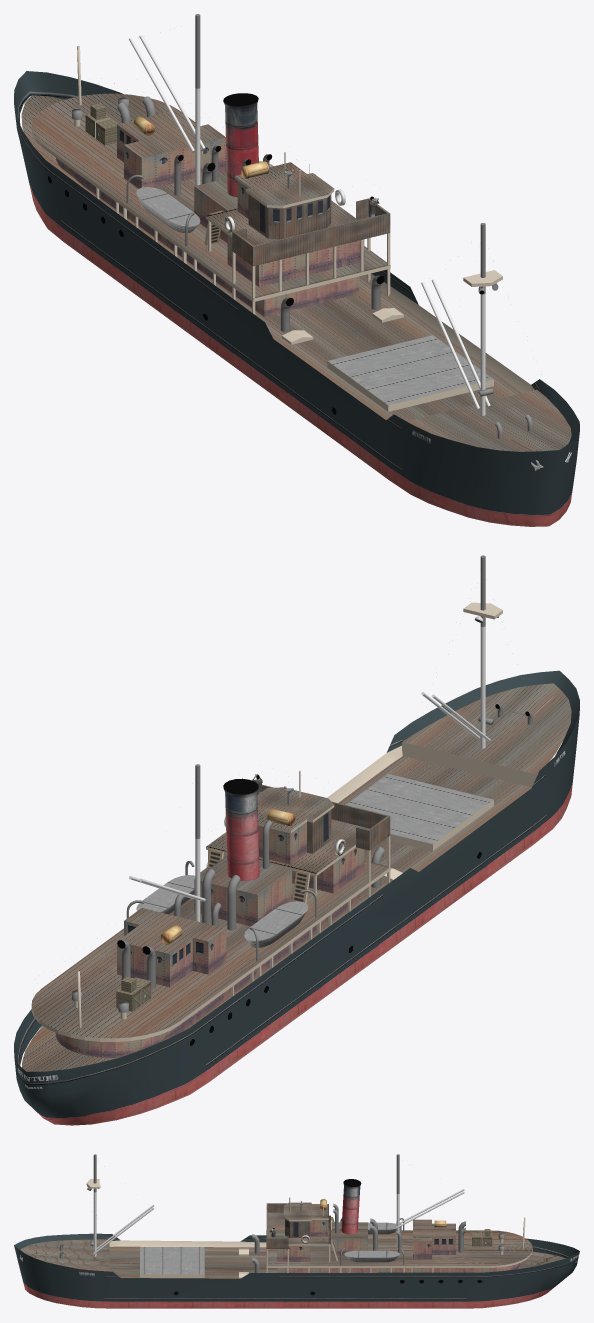
Rendered from tramp_noflag.glb.
The picture shows the model from 3 angles, top to bottom: view 1: azimuth 30°, elevation 25°; view 2: azimuth 150°, elevation 25°; view 3: azimuth 270°, elevation 25°; orthographic projection. The views are drawn at different scales.
Visible parts, largest first — view 1: CabinWood, Hull, Cabin, Parts, Deck, Hull2, Pipes, Smokestack, Booms, Deck2, Lifeboats, node27 (+2 smaller); view 2: CabinWood, Hull, Cabin, Parts, Deck, Deck2, Hull2, Smokestack, Lifeboats, Pipes, node29, node27 (+1 smaller); view 3: Hull, CabinWood, Cabin, Parts, Deck, Hull2, Pipes, Lifeboats, Smokestack, Deck2, Booms, node27 (+1 smaller).
Part boxes in pixels (x1,y1,x2,y2): CabinWood: (21, 93, 571, 451); Hull: (14, 104, 579, 526); Cabin: (56, 124, 364, 316); Parts: (133, 116, 493, 405); Deck: (96, 152, 534, 411); Hull2: (14, 71, 579, 445); Pipes: (117, 14, 498, 331); Smokestack: (223, 101, 258, 197); Booms: (129, 35, 490, 409); Deck2: (31, 46, 532, 451); Lifeboats: (136, 161, 273, 232); node27: (195, 88, 485, 415); CabinWood: (22, 683, 571, 1071); Hull: (14, 714, 579, 1125); Cabin: (55, 822, 364, 1057); Parts: (160, 774, 493, 944); Deck: (206, 602, 502, 997); Deck2: (31, 696, 553, 1041); Hull2: (14, 670, 579, 1065); Smokestack: (224, 788, 259, 880); Lifeboats: (136, 875, 308, 947); Pipes: (121, 555, 498, 989); node29: (72, 704, 532, 1012); node27: (195, 626, 485, 921); Hull: (14, 1245, 579, 1308); CabinWood: (20, 1202, 565, 1278); Cabin: (277, 1220, 519, 1272); Parts: (140, 1199, 446, 1274); Deck: (86, 1179, 433, 1278); Hull2: (14, 1233, 579, 1257); Pipes: (87, 1154, 465, 1272); Lifeboats: (344, 1222, 399, 1262); Smokestack: (341, 1183, 360, 1234); Deck2: (32, 1217, 532, 1267); Booms: (90, 1189, 464, 1253); node27: (93, 1192, 399, 1256).
Bounding box in the file's own units: 8.39 × 14.03 × 53.3.
Materials: 19 (5 with a texture image).
